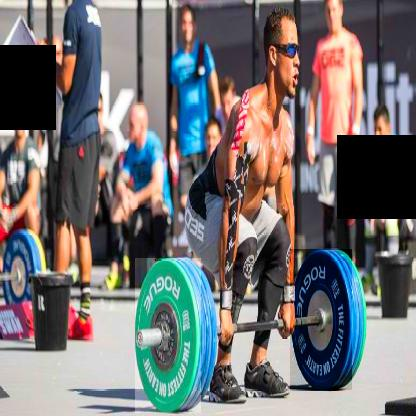barbell: (137, 259, 203, 414), (291, 250, 353, 391)
